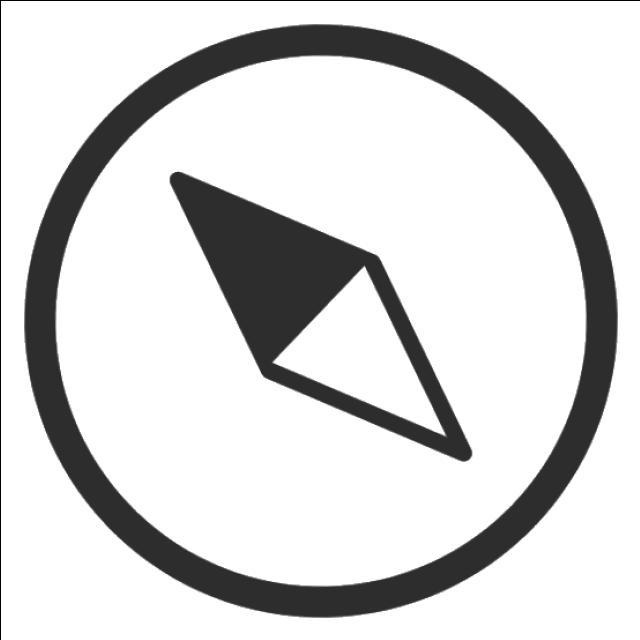compass: (14, 8, 630, 628)
